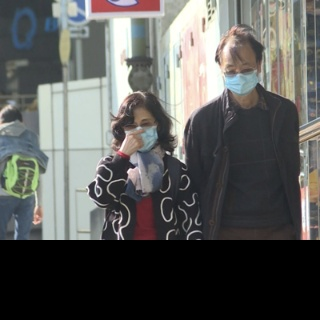with_mask: (123, 117, 159, 155), (220, 60, 259, 94)
